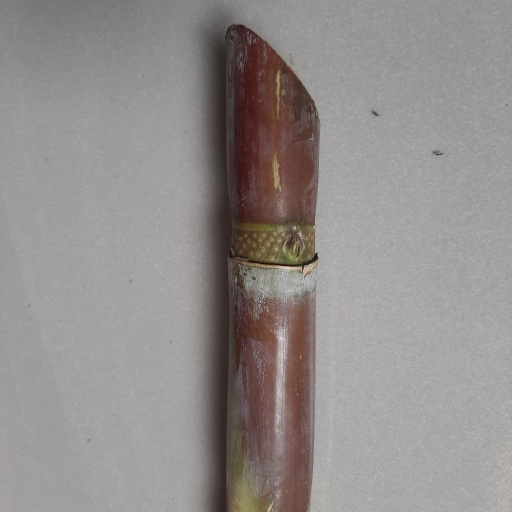Bud: (283, 232, 305, 259)
